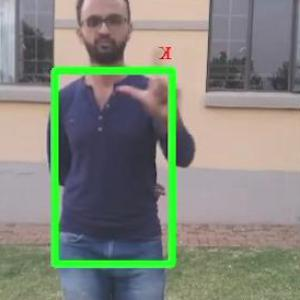land_hand: (115, 39, 187, 120)
